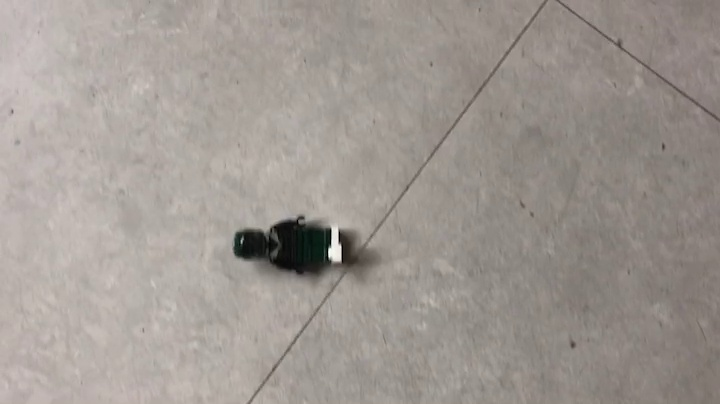people: (233, 215, 357, 277)
